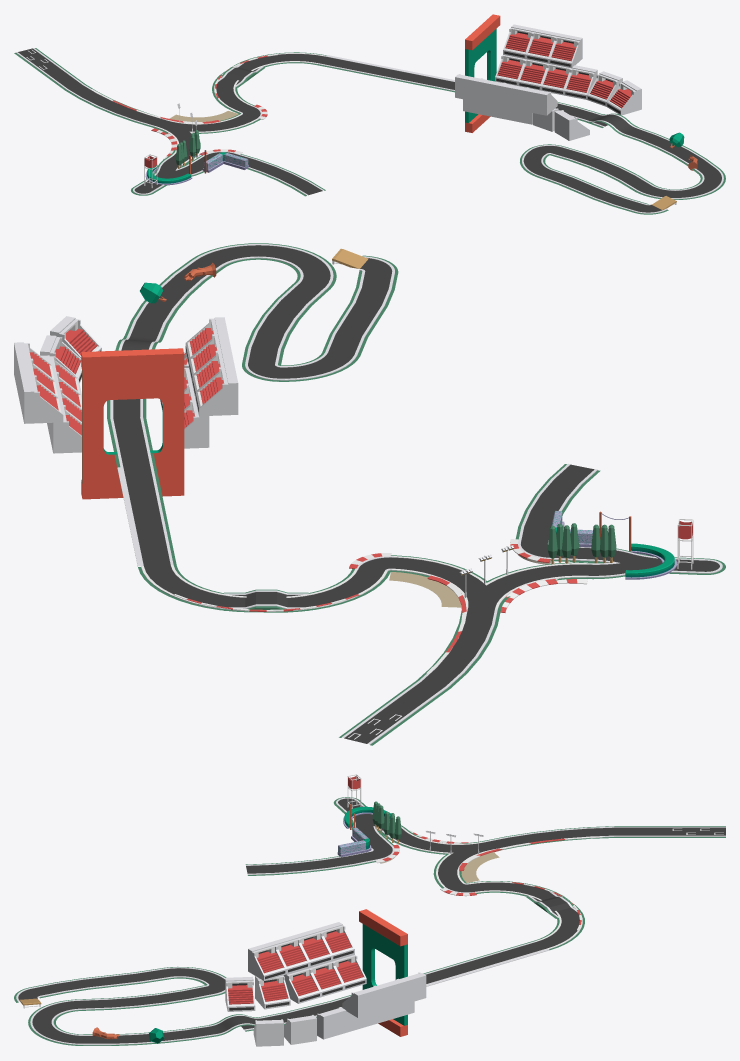
3 views of the same model, one above another, from view 1: azimuth 30°, elevation 25°; view 2: azimuth 150°, elevation 25°; view 3: azimuth 270°, elevation 25° (orthographic). The views are drawn at different scales.
Visible parts, largest first — view 1: mergedBlocks; view 2: mergedBlocks; view 3: mergedBlocks.
Boxes of the visible parts, left/top/right/bottom form: mergedBlocks: left=14, top=14, right=725, bottom=214; mergedBlocks: left=14, top=243, right=725, bottom=745; mergedBlocks: left=14, top=774, right=725, bottom=1046.
Size of the model in its own units: 21.27 by 4 by 25.63.
